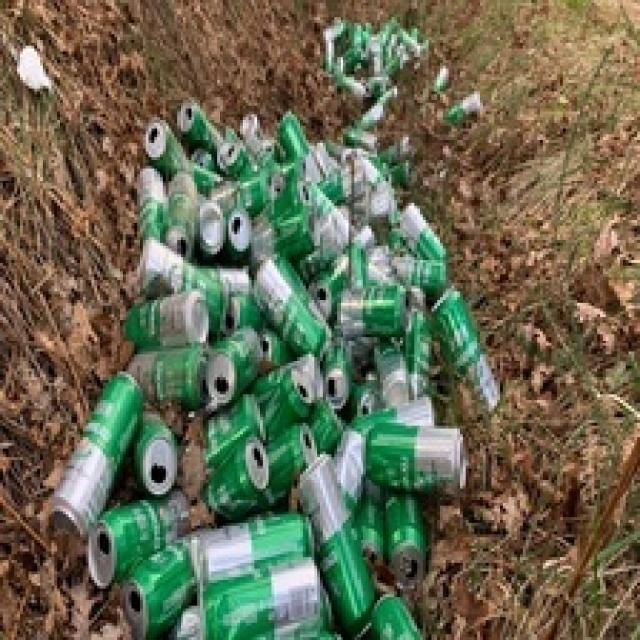recyclable: (300, 454, 386, 640), (48, 368, 138, 537), (175, 553, 333, 640), (180, 502, 314, 590), (117, 523, 214, 640), (88, 486, 192, 589), (430, 283, 502, 424), (251, 252, 326, 355), (362, 422, 468, 487), (203, 432, 274, 520), (120, 291, 213, 351), (124, 343, 210, 405), (202, 328, 262, 410), (384, 486, 430, 586), (132, 404, 178, 501), (140, 116, 192, 180)
